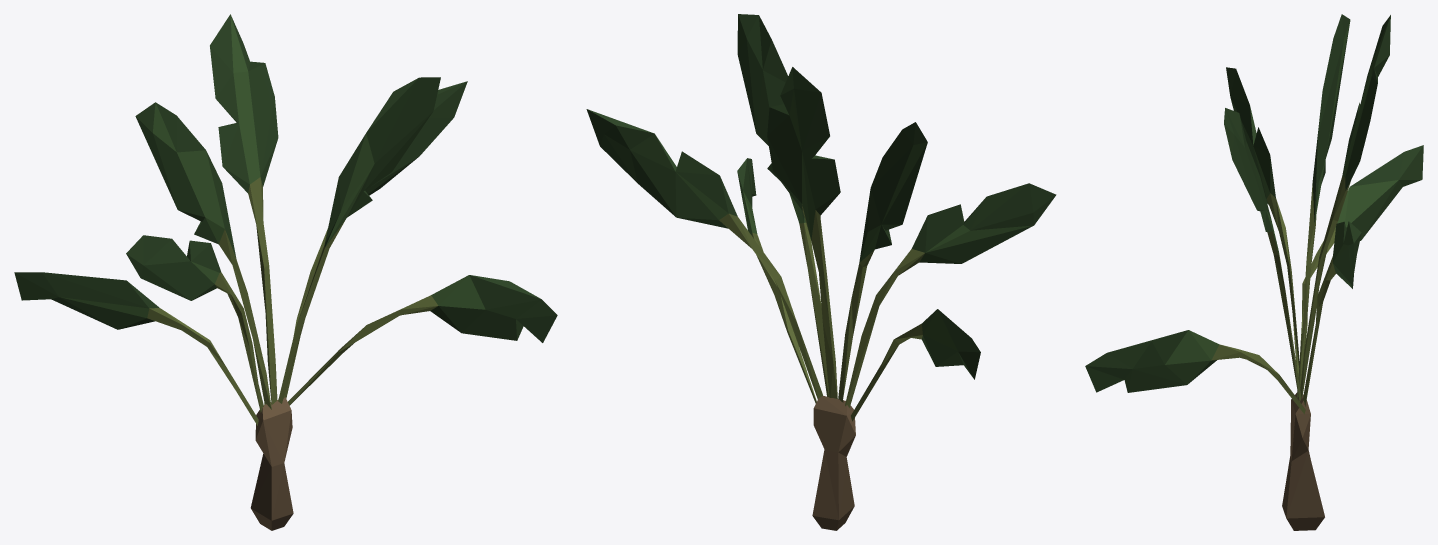
The model's file is SM_Env_PalmBush_03.glb.
The picture shows the model from 3 angles, left to right: view 1: azimuth 30°, elevation 25°; view 2: azimuth 150°, elevation 25°; view 3: azimuth 270°, elevation 25°; orthographic projection. The views are drawn at different scales.
Parts seen in each view (by area): view 1: SM_Env_PalmBush_03; view 2: SM_Env_PalmBush_03; view 3: SM_Env_PalmBush_03.
Part boxes in pixels (left/top/right/bottom): SM_Env_PalmBush_03: left=14, top=14, right=557, bottom=530; SM_Env_PalmBush_03: left=586, top=14, right=1056, bottom=530; SM_Env_PalmBush_03: left=1085, top=14, right=1423, bottom=530.
Bounding box in the file's own units: 0.0348 × 0.0381 × 0.0228.
1 material, 1 textured.
